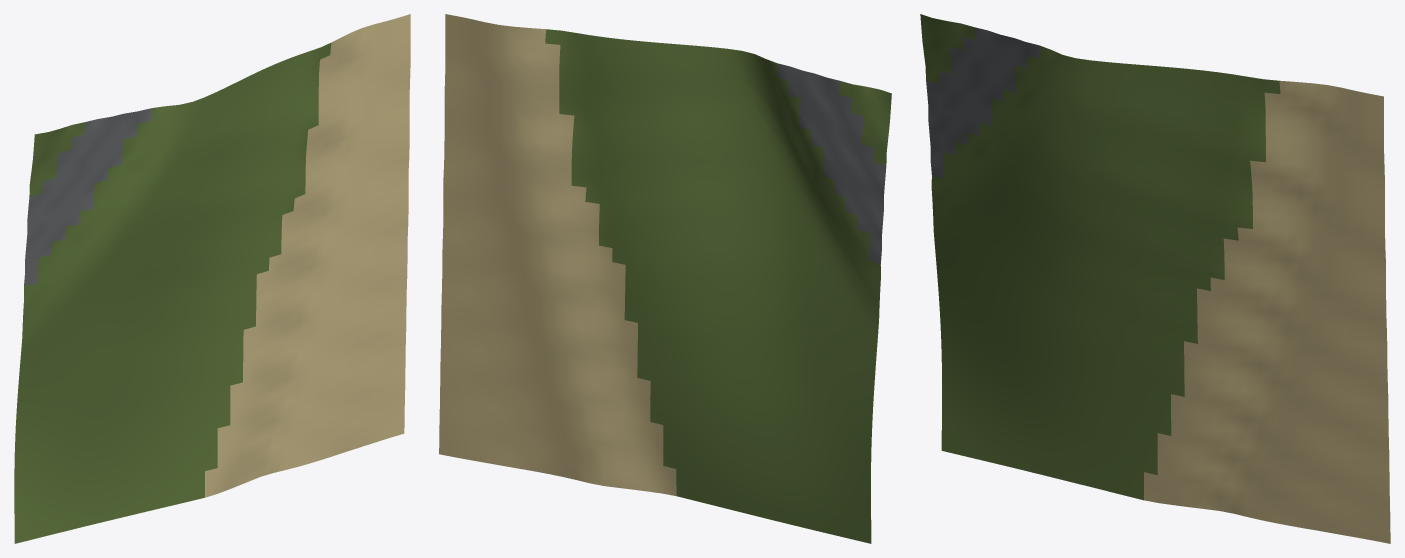
File: island_terrain_11_03.obj
The picture shows the model from 3 angles, left to right: view 1: azimuth 30°, elevation 25°; view 2: azimuth 150°, elevation 25°; view 3: azimuth 330°, elevation 25°; orthographic projection. The views are drawn at different scales.
Parts seen in each view (by area): view 1: island_terrain_11_03; view 2: island_terrain_11_03; view 3: island_terrain_11_03.
Part boxes in pixels (x1=…): island_terrain_11_03: x1=14, y1=14, x2=410, y2=543; island_terrain_11_03: x1=439, y1=14, x2=891, y2=543; island_terrain_11_03: x1=920, y1=14, x2=1390, y2=543.
Bounding box in the file's own units: 256 × 256 × 45.62.
